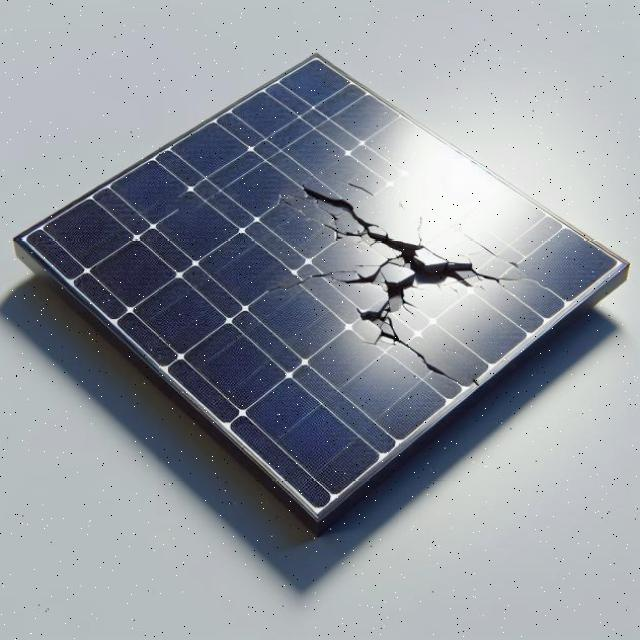Anomaly Solar Panel: (19, 56, 621, 514)
Structural Damage: (252, 172, 482, 345), (375, 313, 475, 396), (264, 269, 356, 295), (455, 223, 502, 263), (470, 267, 528, 291), (344, 179, 377, 198), (417, 212, 425, 246)
